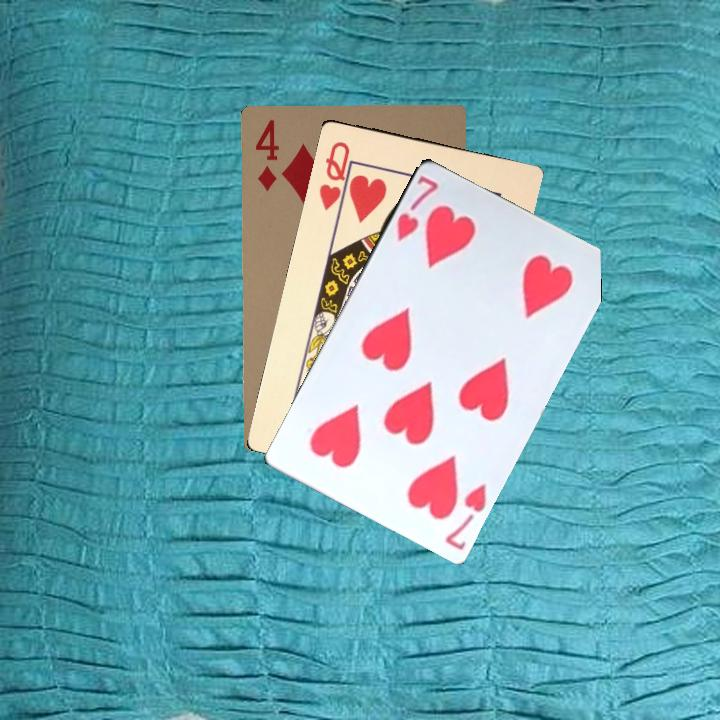4d: (251, 115, 282, 193)
7h: (392, 171, 441, 244), (441, 479, 489, 553)
Qh: (315, 137, 358, 215)
